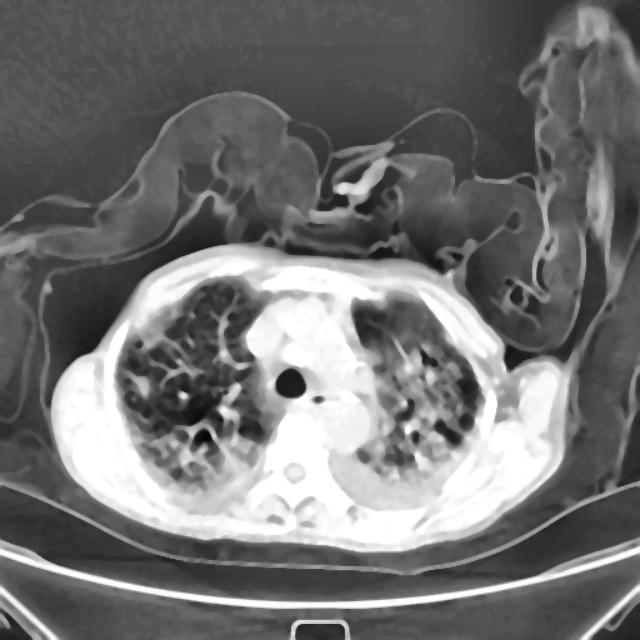covid: (48, 241, 569, 552)
